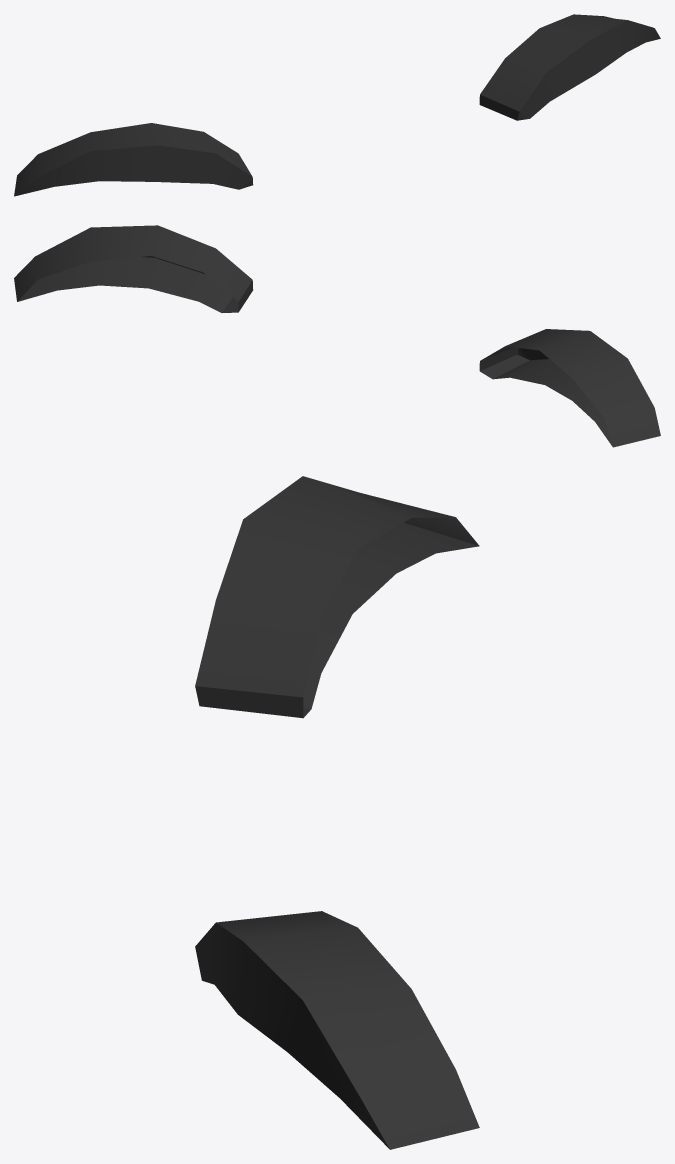
Rendered from Brow_Black_1.fbx.
3 renders of one model, top to bottom at view 1: azimuth 30°, elevation 25°; view 2: azimuth 150°, elevation 25°; view 3: azimuth 270°, elevation 25°, orthographic. The views are drawn at different scales.
Parts seen in each view (by area): view 1: Brow_Black_1; view 2: Brow_Black_1; view 3: Brow_Black_1.
Boxes of the visible parts, box(x1,y1,x2,y2) form: Brow_Black_1: box(14, 14, 660, 196); Brow_Black_1: box(14, 225, 660, 447); Brow_Black_1: box(195, 476, 479, 1149).
Bounding box in the file's own units: 33.06 × 2.71 × 6.3.
